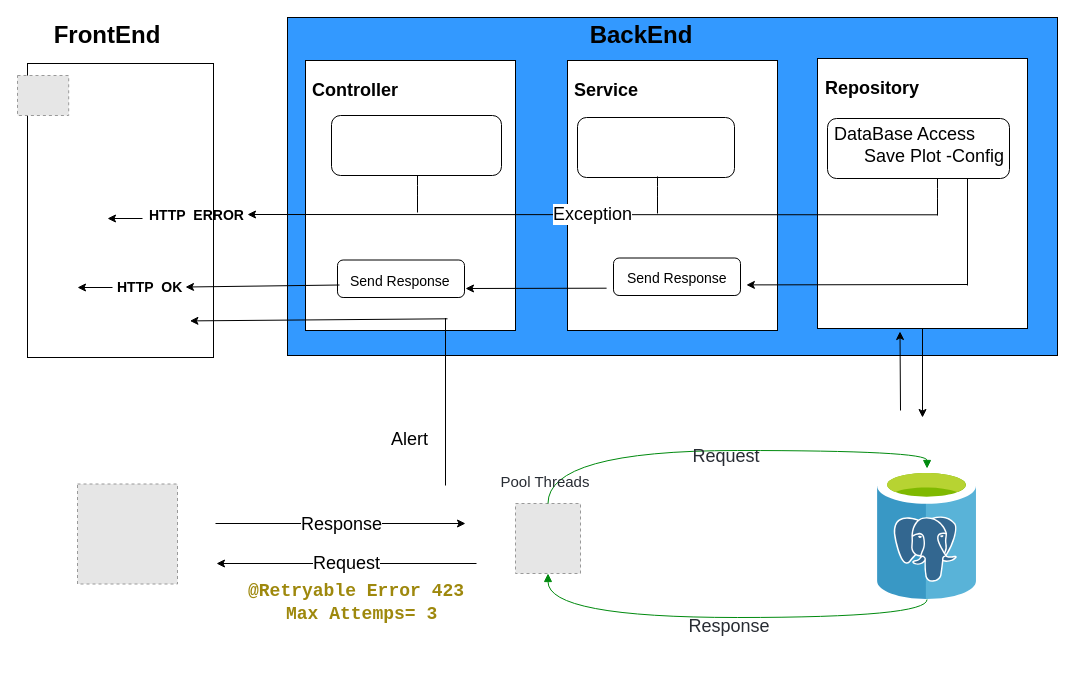
This 1075x684 diagram has some shape labels left out. Grey dashed boxes stand in for pictures. Each missing label, with the centre of its shape:
"Accept Request Validate Data" goes at point (416, 145).
"BD Info. active Irrigation Devices and configuration" goes at point (926, 533).
"Porcess Model Mapper" goes at point (655, 147).
